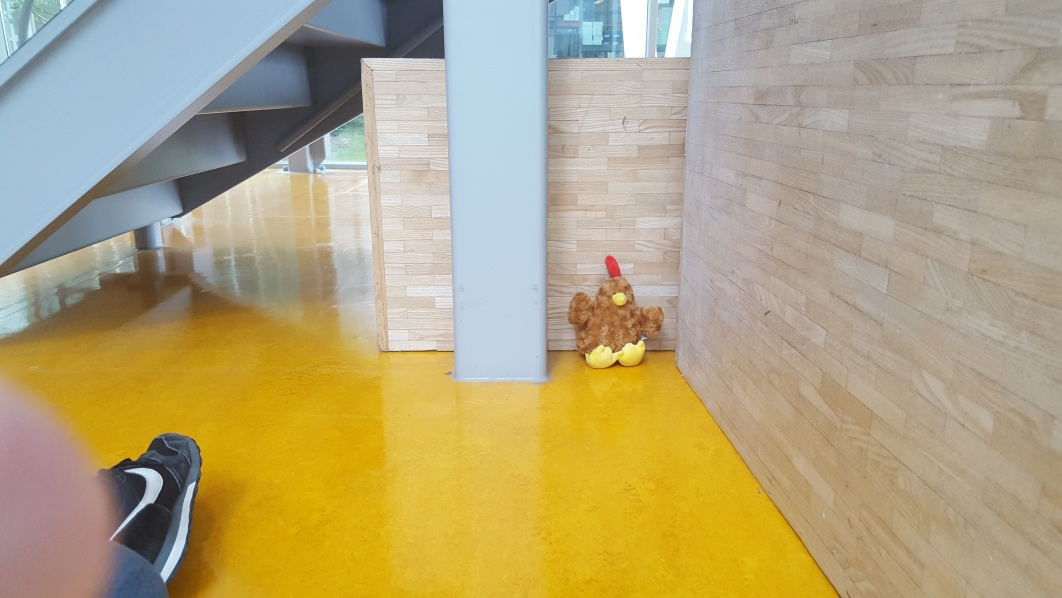chicken: (567, 253, 663, 371)
